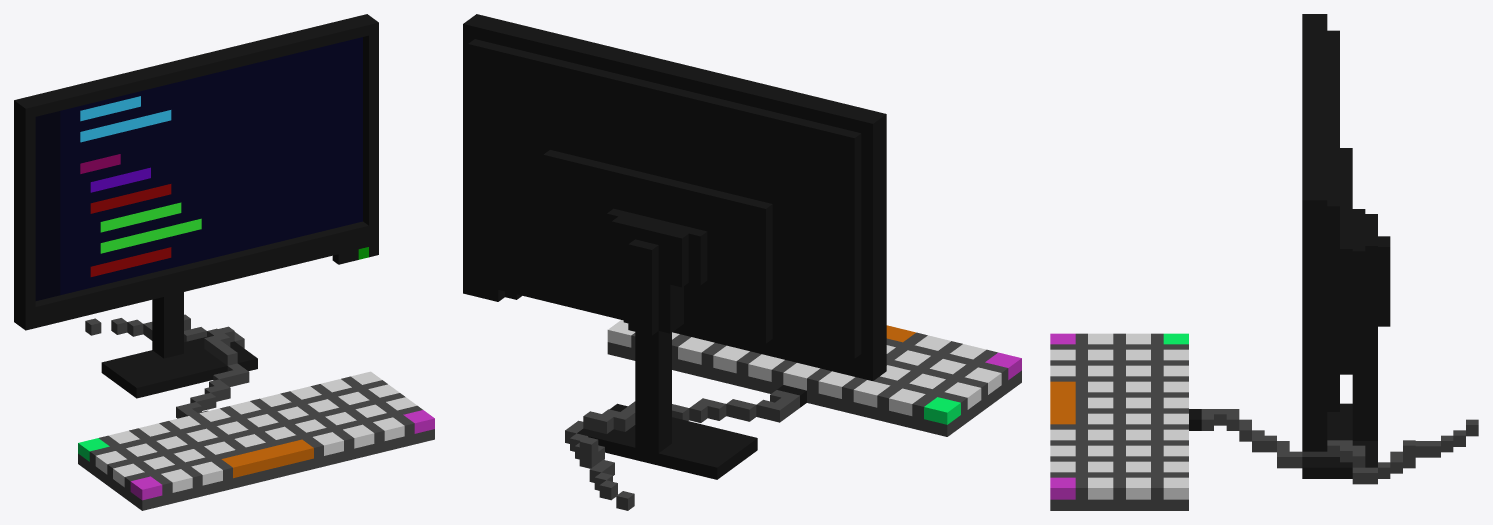
The model's file is computer.gltf.
3 views of the same model, side by side, from view 1: azimuth 30°, elevation 25°; view 2: azimuth 150°, elevation 25°; view 3: azimuth 270°, elevation 25° (orthographic). The views are drawn at different scales.
Visible parts, largest first — view 1: Node; view 2: Node; view 3: Node.
Boxes of the visible parts, x1,y1,x2,y2 form: Node: (14,14,434,510); Node: (463,14,1021,510); Node: (1050,14,1478,510).
Bounding box in the file's own units: 3.5 × 3 × 3.4.
1 material, 1 textured.
